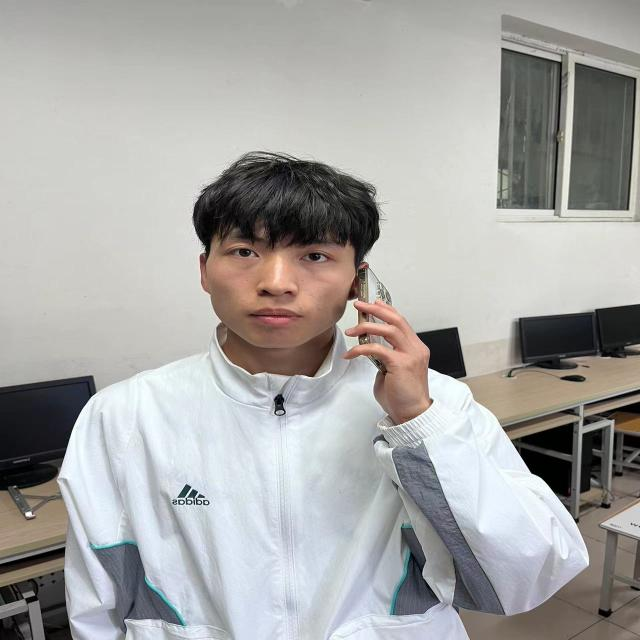phone: (356, 266, 395, 372)
